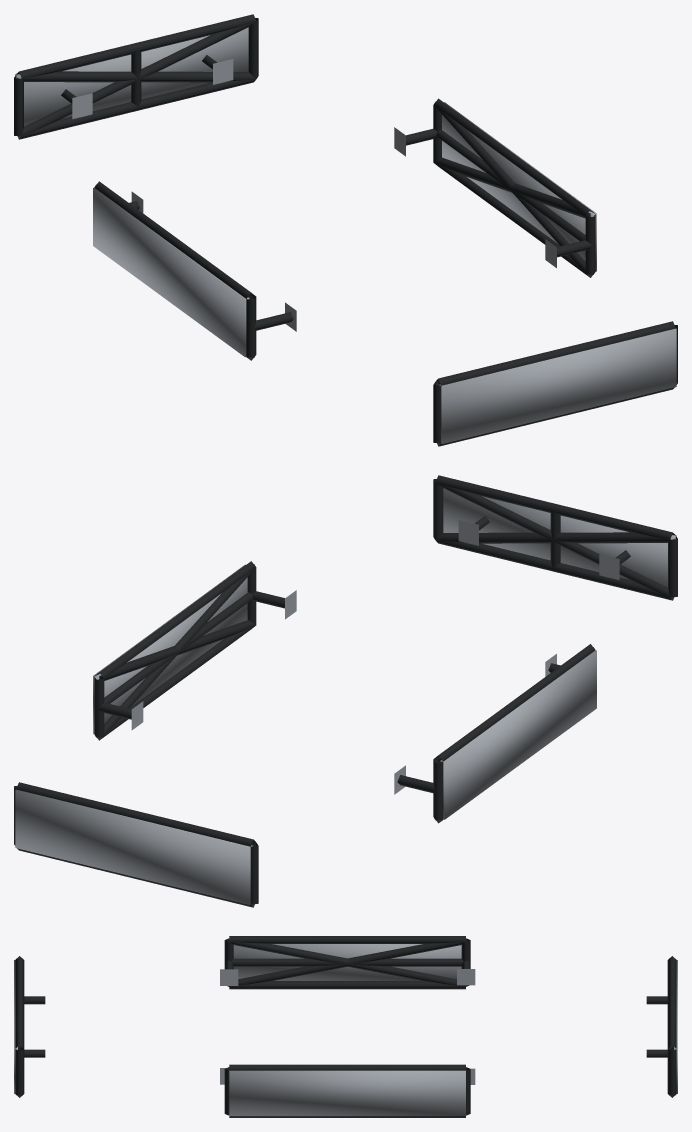
The model's file is feldhaus_pevidem_protecao.glb.
3 renders of one model, top to bottom at view 1: azimuth 30°, elevation 25°; view 2: azimuth 150°, elevation 25°; view 3: azimuth 270°, elevation 25°, orthographic. The views are drawn at different scales.
Parts seen in each view (by area): view 1: Protection_front_Level3_Details, Protection_left_Level3_Details, Protection_rear_Level1_Details, Protection_rear_Level3_Details, Protection_right_Level1_Details, Protection_rear_Level2_Details, Protection_right_Level2_Details, Protection_right_Level3_Details, Protection_front_Level1_Details, Protection_left_Level1_Details; view 2: Protection_rear_Level3_Details, Protection_left_Level3_Details, Protection_front_Level1_Details, Protection_front_Level3_Details, Protection_right_Level1_Details, Protection_front_Level2_Details, Protection_right_Level2_Details, Protection_right_Level3_Details, Protection_rear_Level1_Details, Protection_left_Level1_Details; view 3: Protection_right_Level3_Details, Protection_left_Level2_Details, Protection_left_Level1_Details, Protection_left_Level3_Details, Protection_right_Level1_Details, Protection_rear_Level1_Details, Protection_front_Level1_Details.
Boxes of the visible parts, box(x1,y1,x2,y2) form: Protection_front_Level3_Details: box(439, 328, 676, 443); Protection_left_Level3_Details: box(93, 188, 249, 357); Protection_rear_Level1_Details: box(14, 14, 258, 139); Protection_rear_Level3_Details: box(15, 27, 248, 126); Protection_right_Level1_Details: box(394, 98, 595, 277); Protection_rear_Level2_Details: box(16, 22, 255, 138); Protection_right_Level2_Details: box(434, 105, 594, 277); Protection_right_Level3_Details: box(442, 102, 596, 271); Protection_front_Level1_Details: box(433, 321, 677, 446); Protection_left_Level1_Details: box(94, 181, 296, 360); Protection_rear_Level3_Details: box(15, 789, 252, 904); Protection_left_Level3_Details: box(440, 650, 596, 819); Protection_front_Level1_Details: box(433, 475, 677, 600); Protection_front_Level3_Details: box(443, 488, 676, 587); Protection_right_Level1_Details: box(94, 561, 296, 740); Protection_front_Level2_Details: box(436, 483, 675, 599); Protection_right_Level2_Details: box(95, 568, 255, 739); Protection_right_Level3_Details: box(93, 564, 247, 733); Protection_rear_Level1_Details: box(14, 782, 258, 907); Protection_left_Level1_Details: box(394, 644, 595, 823); Protection_right_Level3_Details: box(229, 1070, 465, 1116); Protection_left_Level2_Details: box(228, 939, 466, 986); Protection_left_Level1_Details: box(220, 936, 475, 989); Protection_left_Level3_Details: box(233, 944, 461, 980); Protection_right_Level1_Details: box(220, 1064, 475, 1117); Protection_rear_Level1_Details: box(646, 956, 676, 1097); Protection_front_Level1_Details: box(15, 956, 45, 1097).
Size of the model in its own units: 1.91 by 0.354 by 4.01.
Materials: 1 (1 with a texture image).
